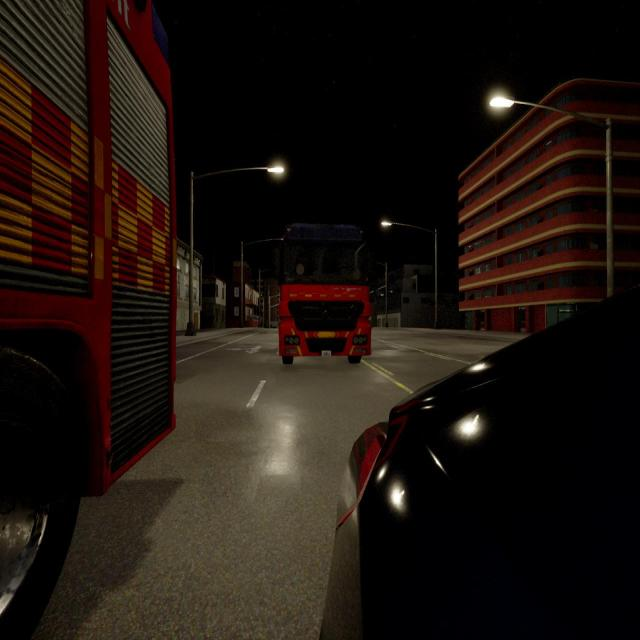Vehicle: (1, 0, 176, 640), (326, 300, 640, 640), (278, 225, 369, 363)
